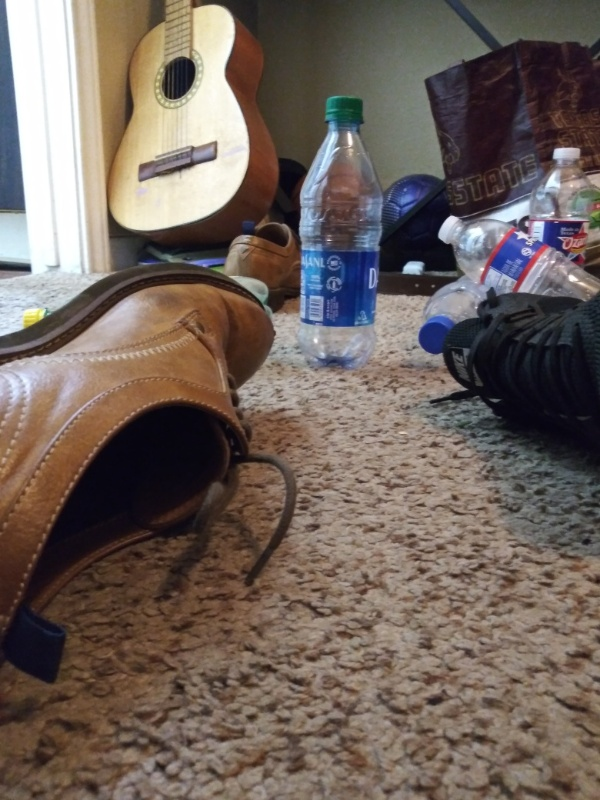bottle: (293, 95, 387, 373), (434, 210, 600, 303), (522, 145, 594, 279), (416, 273, 491, 359)
